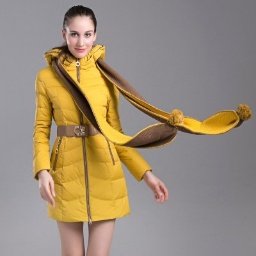face: (62, 5, 100, 60)
